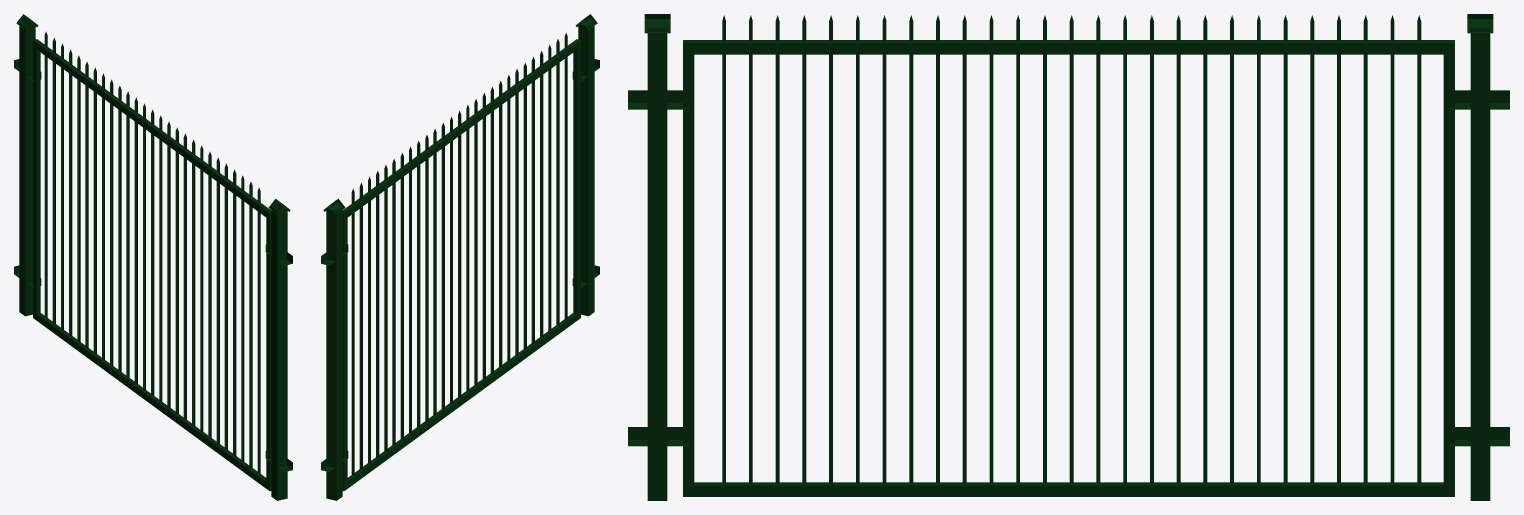
Rendered from plot_bez_murka_kolor.fbx.
3 views of the same model, side by side, from view 1: azimuth 30°, elevation 25°; view 2: azimuth 150°, elevation 25°; view 3: azimuth 270°, elevation 25° (orthographic). The views are drawn at different scales.
Visible parts, largest first — view 1: Cube.008; view 2: Cube.008; view 3: Cube.008.
Part boxes in pixels (left/top/right/bottom): Cube.008: left=14, top=14, right=292, bottom=500; Cube.008: left=321, top=14, right=599, bottom=500; Cube.008: left=628, top=14, right=1509, bottom=500.
Size of the model in its own units: 16.04 by 317 by 525.
